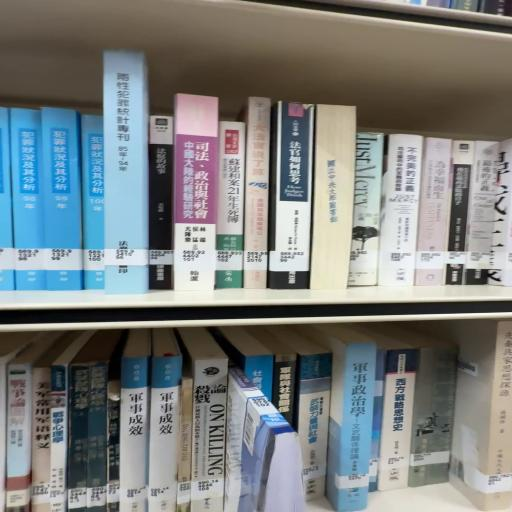backward: (313, 107, 358, 294)
book: (176, 97, 223, 297), (329, 346, 381, 512), (274, 103, 318, 293), (418, 139, 457, 290), (216, 120, 248, 293), (150, 355, 184, 512), (120, 355, 150, 512)
